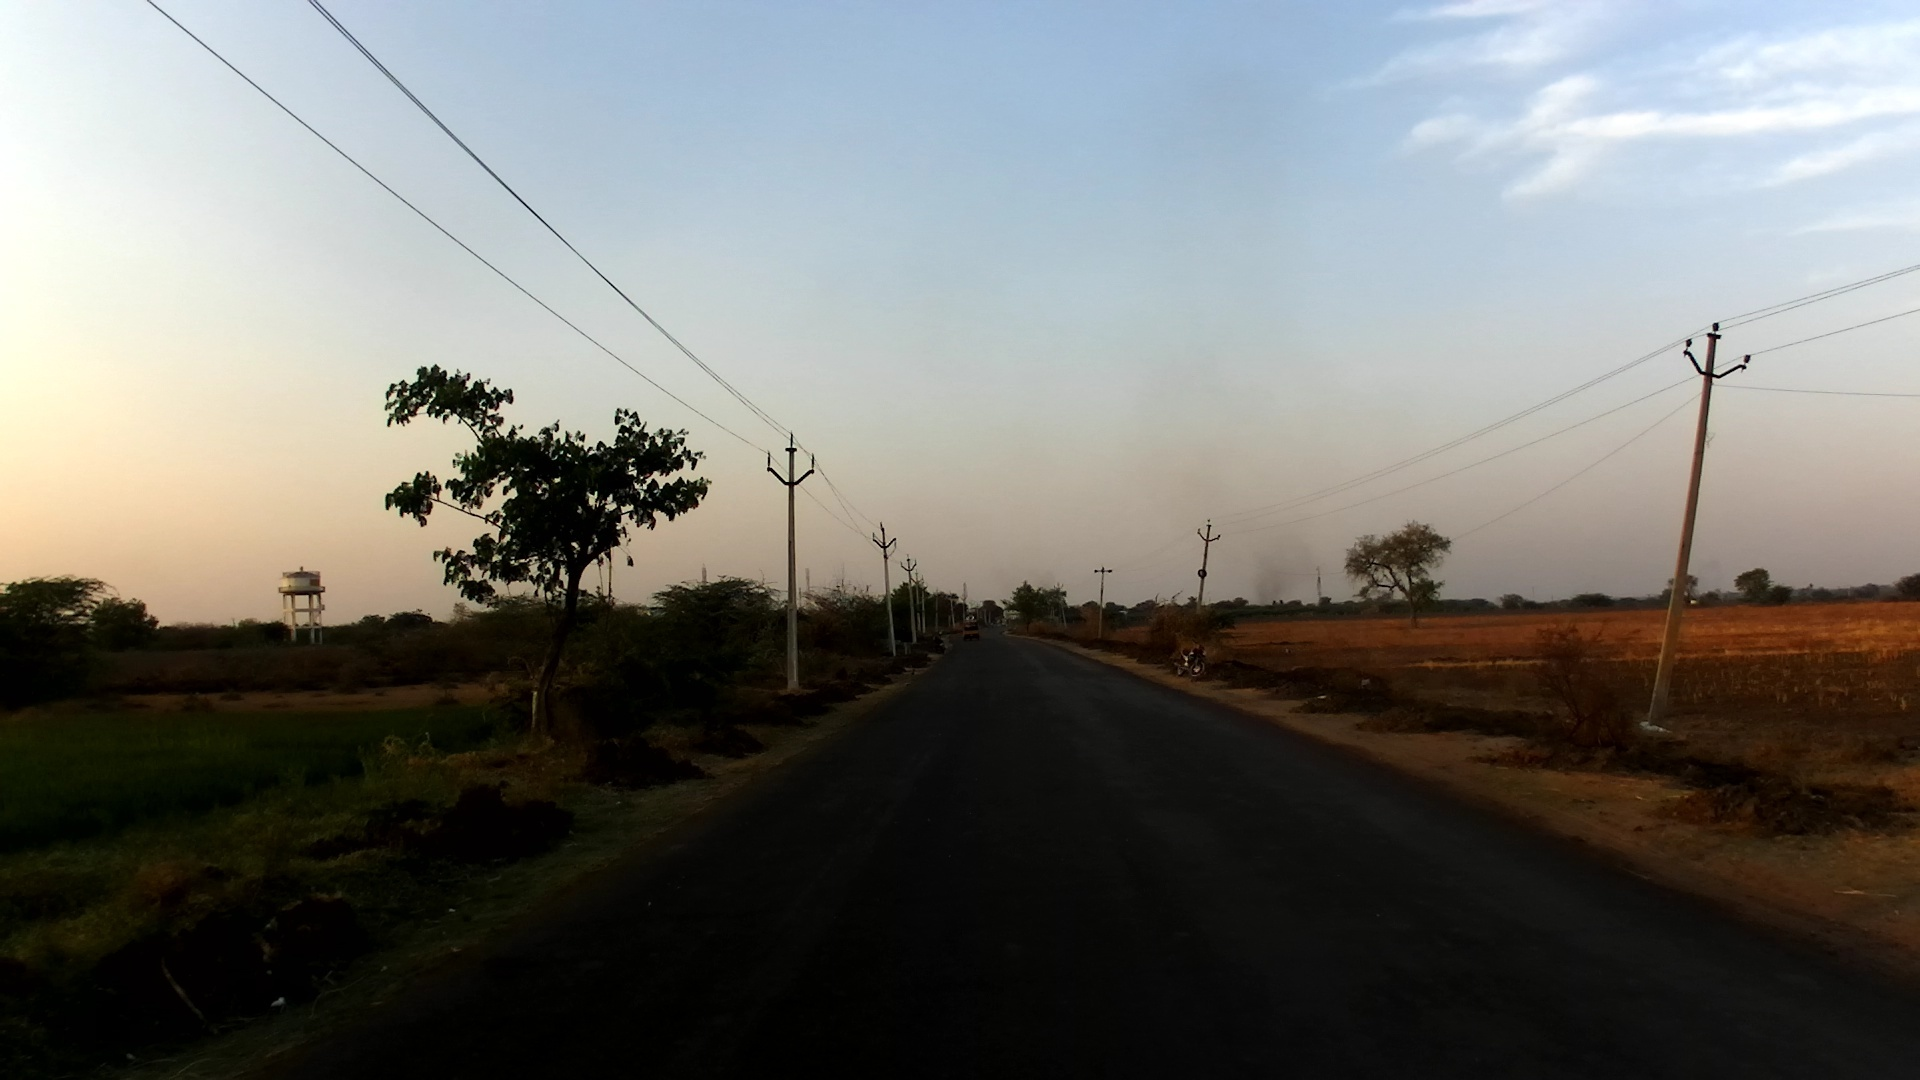car: (960, 615, 982, 641)
motorcycle: (1172, 640, 1211, 676)
